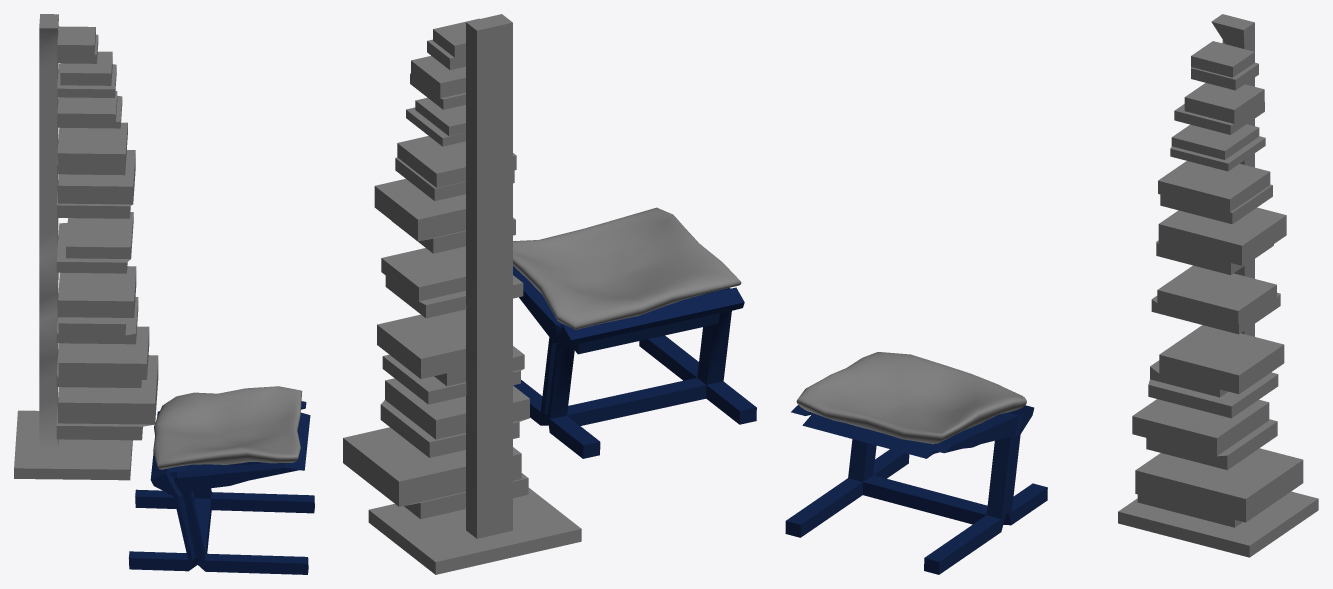
The model's file is onemoretime.dae.
3 views of the same model, side by side, from view 1: azimuth 30°, elevation 25°; view 2: azimuth 150°, elevation 25°; view 3: azimuth 270°, elevation 25° (orthographic). The views are drawn at different scales.
Parts seen in each view (by area): view 1: polySurface329, polySurface326_ncl1_1, polySurface327; view 2: polySurface329, polySurface326_ncl1_1, polySurface327; view 3: polySurface329, polySurface326_ncl1_1, polySurface327.
Boxes of the visible parts, box(x1,y1,x2,y2) form: polySurface329: box(14, 14, 158, 480); polySurface326_ncl1_1: box(128, 401, 314, 574); polySurface327: box(153, 386, 302, 469); polySurface329: box(343, 14, 581, 574); polySurface326_ncl1_1: box(513, 266, 756, 458); polySurface327: box(513, 207, 741, 329); polySurface329: box(1118, 14, 1318, 557); polySurface326_ncl1_1: box(785, 405, 1047, 574); polySurface327: box(796, 352, 1026, 444).
Bounding box in the file's own units: 10.84 × 21.58 × 21.5.
